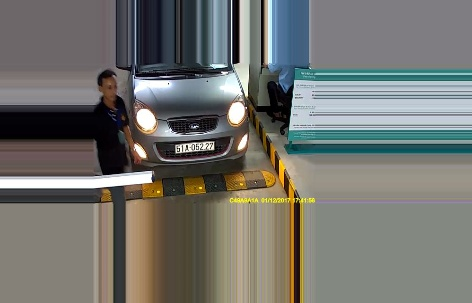plate: (171, 141, 216, 154)
